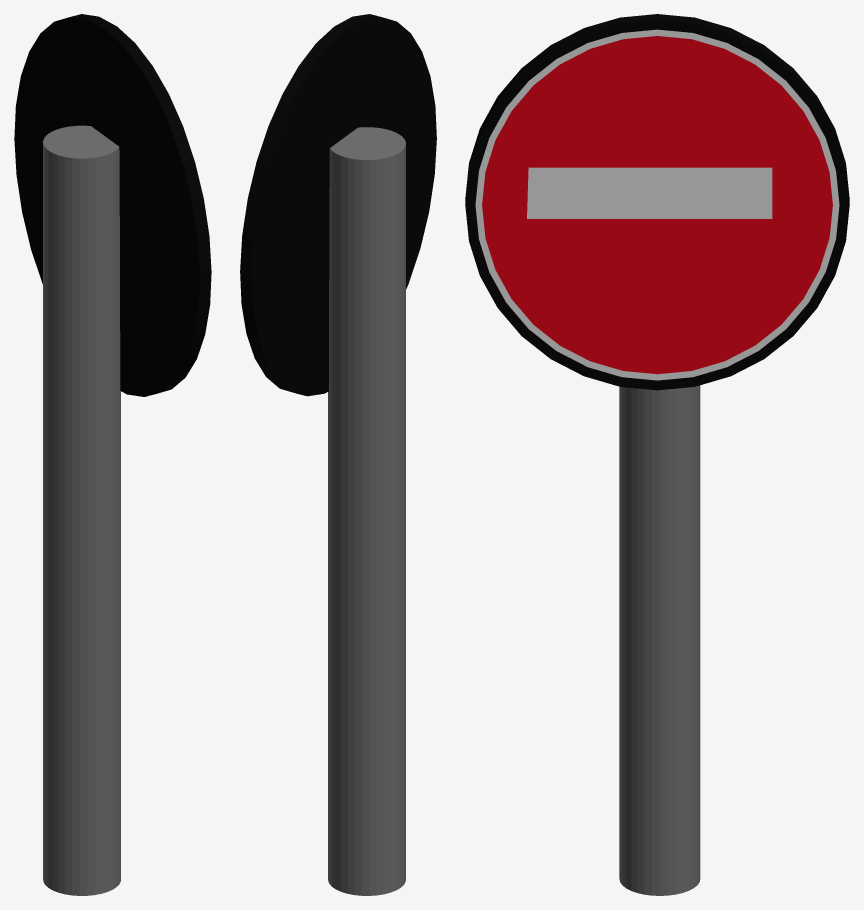
File: no_entry.fbx
3 renders of one model, left to right at view 1: azimuth 30°, elevation 25°; view 2: azimuth 150°, elevation 25°; view 3: azimuth 270°, elevation 25°, orthographic. The views are drawn at different scales.
Parts seen in each view (by area): view 1: Cylinder, Circle; view 2: Cylinder, Circle; view 3: Circle, Cylinder.
Part boxes in pixels (bbox=[...]): Cylinder: bbox=[43, 125, 120, 895]; Circle: bbox=[14, 14, 211, 396]; Cylinder: bbox=[328, 127, 405, 895]; Circle: bbox=[240, 14, 436, 396]; Circle: bbox=[465, 14, 849, 390]; Cylinder: bbox=[619, 385, 700, 895].
Size of the model in its own units: 2.1 by 23.85 by 9.48.
